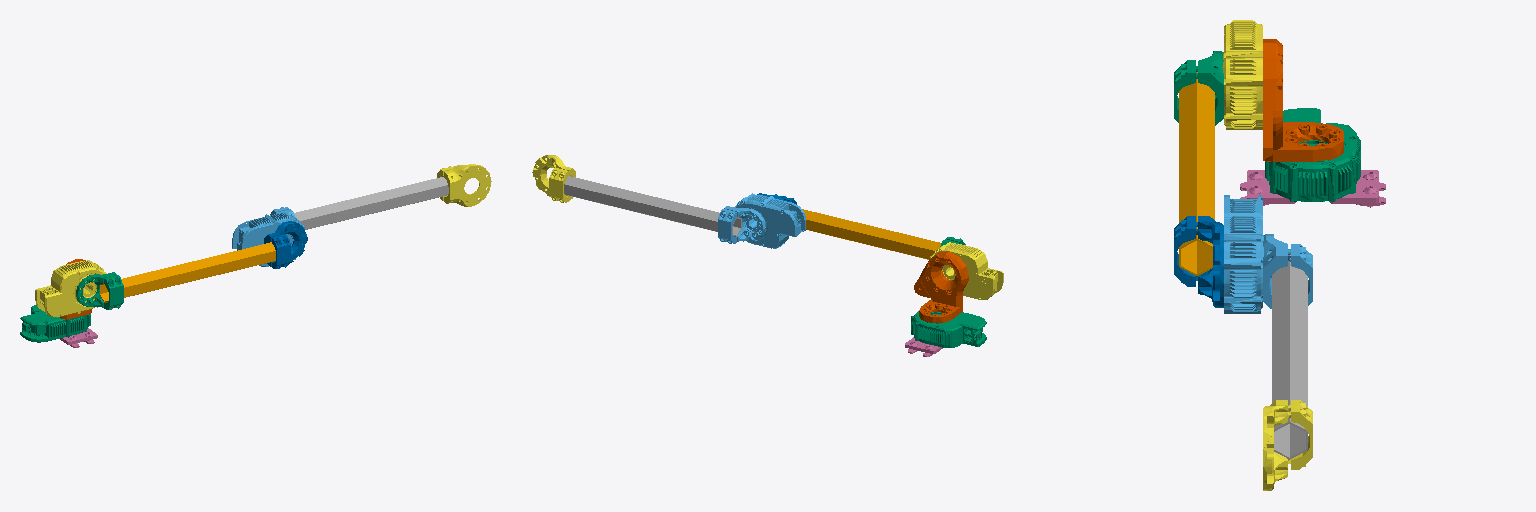
URDF robot description (3_DOF_Arm_1):
<?xml version="1.0" ?>
<robot name="3_DOF_Arm_1">
  <joint name="world_to_a_2043_01_9Z" type="fixed">
    <parent link="world"/>
    <child link="a_2043_01_9Z"/>
  </joint>
  <joint name="a_2043_01_9Z_to_hebi_x5_6Z" type="fixed">
    <parent link="a_2043_01_9Z"/>
    <child link="hebi_x5_6Z"/>
    <origin rpy="0.0 -5.08239990574e-17 -1.73333696049e-33" xyz="8.71763536758e-24 1.61232339957e-23 1e-23"/>
  </joint>
  <joint name="hebi_x5_6Z_to_a_2040_01r_11Z" type="continuous">
    <parent link="hebi_x5_6Z"/>
    <child link="a_2040_01r_11Z"/>
    <axis xyz="-2.77554010017e-17 -1.73472348e-16 1.0"/>
    <origin rpy="0.0 3.34767643574e-17 7.733222874e-33" xyz="-5.55318730444e-17 -2.96636102637e-18 0.03"/>
  </joint>
  <joint name="a_2040_01r_11Z_to_hebi_x5_2Z" type="fixed">
    <parent link="a_2040_01r_11Z"/>
    <child link="hebi_x5_2Z"/>
    <origin rpy="1.57079632679 3.08148791102e-33 -5.08239990574e-17" xyz="4.80186749853e-17 -0.0375 0.055"/>
  </joint>
  <transmission name="tran_a_2040_01r_11Z_to_hebi_x5_2Z">
    <type>transmission_interface/SimpleTransmission</type>
    <joint name="a_2040_01r_11Z_to_hebi_x5_2Z">
      <hardwareInterface>EffortJointInterface</hardwareInterface>
    </joint>
    <actuator name="motor_a_2040_01r_11Z_to_hebi_x5_2Z">
      <hardwareInterface>EffortJointInterface</hardwareInterface>
      <mechanicalReduction>1</mechanicalReduction>
    </actuator>
  </transmission>
  <joint name="hebi_x5_2Z_to_a_2038_02_4Z" type="continuous">
    <parent link="hebi_x5_2Z"/>
    <child link="a_2038_02_4Z"/>
    <axis xyz="-2.77554010017e-17 -1.66533454e-16 1.0"/>
    <origin rpy="0.0 -2.77555756e-17 0.0" xyz="-5.35847694878e-17 2.34257058104e-17 0.03"/>
  </joint>
  <joint name="a_2038_02_4Z_to_tubepar_3Z" type="fixed">
    <parent link="a_2038_02_4Z"/>
    <child link="tubepar_3Z"/>
    <origin rpy="1.57079632679 -1.57079632679 0.0" xyz="0.0135 -9.540978845e-20 0.02"/>
  </joint>
  <joint name="tubepar_3Z_to_a_2039_02_10Z" type="fixed">
    <parent link="tubepar_3Z"/>
    <child link="a_2039_02_10Z"/>
    <origin rpy="1.57079632679 2.50240867501e-14 -1.57079632679" xyz="4.84783703319e-18 -0.3 5.20417041e-18"/>
  </joint>
  <joint name="a_2039_02_10Z_to_hebi_x5_5Z" type="fixed">-->
    <parent link="a_2039_02_10Z"/>
    <child link="hebi_x5_5Z"/>
    <origin rpy="1.22464679915e-16 1.04083409e-17 2.50240867501e-14" xyz="0.014 3.34058705353e-16 0.02"/>
  </joint>
  <joint name="hebi_x5_5Z_to_a_2038_02_1Z" type="continuous">
    <parent link="hebi_x5_5Z"/>
    <child link="a_2038_02_1Z"/>
    <axis xyz="-8.89879155574e-17 -1.5959456e-16 1.0"/>
    <origin rpy="0.0 -2.77555756e-17 -3.08148791102e-33" xyz="-5.95130563275e-17 -4.7878368e-18 0.03"/>
  </joint>
  <transmission name="tran_hebi_x5_5Z_to_a_2038_02_1Z">
    <type>transmission_interface/SimpleTransmission</type>
    <joint name="hebi_x5_5Z_to_a_2038_02_1Z">
      <hardwareInterface>EffortJointInterface</hardwareInterface>
    </joint>
    <actuator name="motor_hebi_x5_5Z_to_a_2038_02_1Z">
      <hardwareInterface>EffortJointInterface</hardwareInterface>
      <mechanicalReduction>1</mechanicalReduction>
    </actuator>
  </transmission>
  <joint name="a_2038_02_1Z_to_tubepar_8Z" type="fixed">
    <parent link="a_2038_02_1Z"/>
    <child link="tubepar_8Z"/>
    <origin rpy="1.57079632679 -1.57079632679 0.0" xyz="0.0135 5.1174342845e-19 0.02"/>
  </joint>
  <joint name="tubepar_8Z_to_a_2039_02_7Z" type="fixed">
    <parent link="tubepar_8Z"/>-->
    <child link="a_2039_02_7Z"/>
    <origin rpy="1.57079632679 2.50240867501e-14 -1.57079632679" xyz="-2.94658008559e-18 -0.3 9.0066843052e-18"/>
  </joint>

  <link name="world"/>
  <link name="a_2038_02_1Z">
    <visual>
      <origin rpy="0 0 0" xyz="5.68434188608e-17 9.86076128129e-34 3.48065554802e-33"/>
      <geometry>
        <mesh filename="package://hebi_3dof_arm_description/meshes/a_2038_02_1z_prt.stl" scale="0.001 0.001 0.001"/>
      </geometry>
    </visual>
    <collision>
      <origin rpy="0 0 0" xyz="5.68434188608e-17 9.86076128129e-34 3.48065554802e-33"/>
      <geometry>-->
        <mesh filename="package://hebi_3dof_arm_description/meshes/a_2038_02_1z_prt.stl" scale="0.001 0.001 0.001"/>
      </geometry>
    </collision>
    <inertial>
      <origin rpy="0 0 0" xyz="0.0176052907699 9.86076128129e-34 0.0142788404199"/>
      <mass value="0.059108249978877175"/>
      <inertia ixx="2.3632587043e-05" ixy="0.0" ixz="-3.93131579939e-06" iyy="2.03298829586e-05" iyz="0.0" izz="2.72912531732e-05"/>
    </inertial>
  </link>
  <gazebo reference="a_2038_02_1Z">
    <selfCollide>true</selfCollide>
    <material>Gazebo/Blue</material>
  </gazebo>
  <link name="a_2038_02_4Z">
    <visual>
      <origin rpy="0 0 0" xyz="5.68994337913e-17 -9.87047832275e-34 -4.47113330557e-33"/>
      <geometry>
        <mesh filename="package://hebi_3dof_arm_description/meshes/a_2038_02_4z_prt.stl" scale="0.001 0.001 0.001"/>
      </geometry>
    </visual>
    <collision>
      <origin rpy="0 0 0" xyz="5.68994337913e-17 -9.87047832275e-34 -4.47113330557e-33"/>
      <geometry>
        <mesh filename="package://hebi_3dof_arm_description/meshes/a_2038_02_4z_prt.stl" scale="0.001 0.001 0.001"/>
      </geometry>
    </collision>
    <inertial>
      <origin rpy="0 0 0" xyz="0.0176052907699 -9.87047832275e-34 0.0142788404199"/>
      <mass value="0.059108249978877175"/>
      <inertia ixx="2.3632587043e-05" ixy="0.0" ixz="-3.93131579939e-06" iyy="2.03298829586e-05" iyz="0.0" izz="2.72912531732e-05"/>
    </inertial>
  </link>
  <gazebo reference="a_2038_02_4Z">
    <selfCollide>true</selfCollide>
    <material>Gazebo/Blue</material>
  </gazebo>
  <link name="a_2039_02_7Z">
    <visual>
      <origin rpy="0 0 0" xyz="0.014 3.47783837497e-16 0.02"/>
      <geometry>
        <mesh filename="package://hebi_3dof_arm_description/meshes/a_2039_02_7z_prt.stl" scale="0.001 0.001 0.001"/>
      </geometry>
    </visual>
    <collision>
      <origin rpy="0 0 0" xyz="0.014 3.47783837497e-16 0.02"/>
      <geometry>
        <mesh filename="package://hebi_3dof_arm_description/meshes/a_2039_02_7z_prt.stl" scale="0.001 0.001 0.001"/>
      </geometry>
    </collision>
    <inertial>
      <origin rpy="0 0 0" xyz="0.00256411047128 3.47783837497e-16 0.00833404763152"/>
      <mass value="0.08075605008850124"/>
      <inertia ixx="3.54766366127e-05" ixy="0.0" ixz="-8.29679742245e-06" iyy="3.7139980371e-05" iyz="0.0" izz="5.23238184568e-05"/>
    </inertial>
  </link>
  <gazebo reference="a_2039_02_7Z">
    <selfCollide>true</selfCollide>
    <material>Gazebo/Blue</material>
  </gazebo>
  <link name="a_2039_02_10Z">
    <visual>
      <origin rpy="0 0 0" xyz="0.014 3.48269560069e-16 0.02"/>
      <geometry>
        <mesh filename="package://hebi_3dof_arm_description/meshes/a_2039_02_10z_prt.stl" scale="0.001 0.001 0.001"/>
      </geometry>
    </visual>
    <collision>
      <origin rpy="0 0 0" xyz="0.014 3.48269560069e-16 0.02"/>
      <geometry>
        <mesh filename="package://hebi_3dof_arm_description/meshes/a_2039_02_10z_prt.stl" scale="0.001 0.001 0.001"/>
      </geometry>
    </collision>
    <inertial>
      <origin rpy="0 0 0" xyz="0.00256411047128 3.48269560069e-16 0.00833404763152"/>
      <mass value="0.08075605008850124"/>
      <inertia ixx="3.54766366127e-05" ixy="0.0" ixz="-8.29679742245e-06" iyy="3.7139980371e-05" iyz="0.0" izz="5.23238184568e-05"/>
    </inertial>
  </link>
  <gazebo reference="a_2039_02_10Z">
    <selfCollide>true</selfCollide>
    <material>Gazebo/Blue</material>
  </gazebo>
  <link name="a_2040_01r_11Z">
    <visual>
      <origin rpy="0 0 0" xyz="-0.00144337567 -0.0366111248 -0.0110127649"/>
      <geometry>
        <mesh filename="package://hebi_3dof_arm_description/meshes/a_2040_01r_11z_prt.stl" scale="0.001 0.001 0.001"/>
      </geometry>
    </visual>
    <collision>
      <origin rpy="0 0 0" xyz="-0.00144337567 -0.0366111248 -0.0110127649"/>
      <geometry>
        <mesh filename="package://hebi_3dof_arm_description/meshes/a_2040_01r_11z_prt.stl" scale="0.001 0.001 0.001"/>
      </geometry>
    </collision>
    <inertial>
      <origin rpy="0 0 0" xyz="0.00491688893766 -0.0251584176519 0.0321388430548"/>
      <mass value="0.20914931631287276"/>
      <inertia ixx="0.000172164331359" ixy="6.97960030475e-06" ixz="1.86510590224e-06" iyy="0.000214507296155" iyz="3.45432088412e-05" izz="0.00012102414398"/>
    </inertial>
  </link>
  <gazebo reference="a_2040_01r_11Z">
    <selfCollide>true</selfCollide>
    <material>Gazebo/Blue</material>
  </gazebo>
  <link name="a_2043_01_9Z">
    <visual>
      <origin rpy="0 0 0" xyz="1e-23 1e-23 1e-23"/>
      <geometry>
        <mesh filename="package://hebi_3dof_arm_description/meshes/a_2043_01_9z_prt.stl" scale="0.001 0.001 0.001"/>
      </geometry>
    </visual>
    <collision>
      <origin rpy="0 0 0" xyz="1e-23 1e-23 1e-23"/>
      <geometry>
        <mesh filename="package://hebi_3dof_arm_description/meshes/a_2043_01_9z_prt.stl" scale="0.001 0.001 0.001"/>
      </geometry>
    </collision>
    <inertial>
      <origin rpy="0 0 0" xyz="-0.00139419949295 1e-23 -0.00293190489101"/>
      <mass value="0.06272938391183215"/>
      <inertia ixx="7.22571415296e-05" ixy="2.96268938113e-10" ixz="5.68510520871e-08" iyy="1.34631068457e-05" iyz="0.0" izz="8.48613385518e-05"/>
    </inertial>
  </link>
  <gazebo reference="a_2043_01_9Z">
    <selfCollide>true</selfCollide>
    <material>Gazebo/Blue</material>
  </gazebo>
  <link name="tubepar_8Z">
    <visual>
      <origin rpy="0 0 0" xyz="-2.94658008559e-18 -0.3 9.0066843052e-18"/>
      <geometry>
        <mesh filename="package://hebi_3dof_arm_description/meshes/tubepar_8z_prt.stl" scale="0.001 0.001 0.001"/>
      </geometry>
    </visual>
    <collision>
      <origin rpy="0 0 0" xyz="-2.94658008559e-18 -0.3 9.0066843052e-18"/>
      <geometry>
        <mesh filename="package://hebi_3dof_arm_description/meshes/tubepar_8z_prt.stl" scale="0.001 0.001 0.001"/>
      </geometry>
    </collision>
    <inertial>
      <origin rpy="0 0 0" xyz="-2.94658008559e-18 -0.15 9.0066843052e-18"/>
      <mass value="0.12133427279164029"/>
      <inertia ixx="0.000923727684155" ixy="0.0" ixz="0.0" iyy="2.74413054377e-05" iyz="0.0" izz="0.000923727713157"/>
    </inertial>
  </link>
  <gazebo reference="tubepar_8Z">
    <selfCollide>true</selfCollide>
    <material>Gazebo/Blue</material>
  </gazebo>
  <link name="tubepar_3Z">
    <visual>
      <origin rpy="0 0 0" xyz="4.84783703319e-18 -0.3 5.20417041e-18"/>
      <geometry>
        <mesh filename="package://hebi_3dof_arm_description/meshes/tubepar_3z_prt.stl" scale="0.001 0.001 0.001"/>
      </geometry>
    </visual>
    <collision>
      <origin rpy="0 0 0" xyz="4.84783703319e-18 -0.3 5.20417041e-18"/>
      <geometry>
        <mesh filename="package://hebi_3dof_arm_description/meshes/tubepar_3z_prt.stl" scale="0.001 0.001 0.001"/>
      </geometry>
    </collision>
    <inertial>
      <origin rpy="0 0 0" xyz="4.84783703319e-18 -0.15 5.20417041e-18"/>
      <mass value="0.12133427279164029"/>
      <inertia ixx="0.000923727684155" ixy="0.0" ixz="0.0" iyy="2.74413054377e-05" iyz="0.0" izz="0.000923727713157"/>
    </inertial>
  </link>
  <gazebo reference="tubepar_3Z">
    <selfCollide>true</selfCollide>
    <material>Gazebo/Blue</material>
  </gazebo>
  <link name="hebi_x5_5Z">
    <visual>
      <origin rpy="0 0 0" xyz="-5.81782375942e-17 -2.3939184e-18 0.015"/>
      <geometry>
        <mesh filename="package://hebi_3dof_arm_description/meshes/hebi_x5_5z_prt.stl" scale="0.001 0.001 0.001"/>
      </geometry>
    </visual>
    <collision>
      <origin rpy="0 0 0" xyz="-5.81782375942e-17 -2.3939184e-18 0.015"/>
      <geometry>
        <mesh filename="package://hebi_3dof_arm_description/meshes/hebi_x5_5z_prt.stl" scale="0.001 0.001 0.001"/>
      </geometry>
    </collision>
    <inertial>
      <origin rpy="0 0 0" xyz="-0.0142019322139 -0.00151173442654 0.0150064707722"/>
      <mass value="0.31314990731599424"/>
      <inertia ixx="0.000130134484577" ixy="-1.76457619391e-05" ixz="1.18542673976e-08" iyy="0.00022573878578" iyz="1.19840924602e-07" izz="0.000308861203858"/>
    </inertial>
  </link>
  <gazebo reference="hebi_x5_5Z">
    <selfCollide>true</selfCollide>
    <material>Gazebo/Blue</material>
  </gazebo>
  <link name="hebi_x5_6Z">
    <visual>
      <origin rpy="0 0 0" xyz="-5.55318730444e-17 -2.49799181e-18 0.015"/>
      <geometry>
        <mesh filename="package://hebi_3dof_arm_description/meshes/hebi_x5_6z_prt.stl" scale="0.001 0.001 0.001"/>
      </geometry>
    </visual>
    <collision>
      <origin rpy="0 0 0" xyz="-5.55318730444e-17 -2.49799181e-18 0.015"/>
      <geometry>
        <mesh filename="package://hebi_3dof_arm_description/meshes/hebi_x5_6z_prt.stl" scale="0.001 0.001 0.001"/>
      </geometry>
    </collision>
    <inertial>
      <origin rpy="0 0 0" xyz="-0.0142019322139 -0.00151173442654 0.0150064707722"/>
      <mass value="0.31314990731599424"/>
      <inertia ixx="0.000130134484577" ixy="-1.76457619391e-05" ixz="1.18542673976e-08" iyy="0.00022573878578" iyz="1.19840924602e-07" izz="0.000308861203858"/>
    </inertial>
  </link>
  <gazebo reference="hebi_x5_6Z">
    <selfCollide>true</selfCollide>
    <material>Gazebo/Blue</material>
  </gazebo>
  <link name="hebi_x5_2Z">
    <visual>
      <origin rpy="0 0 0" xyz="-5.35847694878e-17 2.59237076204e-17 0.015"/>
      <geometry>
        <mesh filename="package://hebi_3dof_arm_description/meshes/hebi_x5_2z_prt.stl" scale="0.001 0.001 0.001"/>
      </geometry>
    </visual>
    <collision>
      <origin rpy="0 0 0" xyz="-5.35847694878e-17 2.59237076204e-17 0.015"/>
      <geometry>
        <mesh filename="package://hebi_3dof_arm_description/meshes/hebi_x5_2z_prt.stl" scale="0.001 0.001 0.001"/>
      </geometry>
    </collision>
    <inertial>
      <origin rpy="0 0 0" xyz="-0.0142019322139 -0.00151173442654 0.0150064707722"/>
      <mass value="0.31314990731599424"/>
      <inertia ixx="0.000130134484577" ixy="-1.76457619391e-05" ixz="1.18542673976e-08" iyy="0.00022573878578" iyz="1.19840924602e-07" izz="0.000308861203858"/>
    </inertial>
  </link>
  <gazebo reference="hebi_x5_2Z">
    <selfCollide>true</selfCollide>
    <material>Gazebo/Blue</material>
  </gazebo>
</robot>

--- Render facts (derived) ---
Views: 3 orthographic renders of the robot side by side, from view 1: azimuth 30°, elevation 25°; view 2: azimuth 150°, elevation 25°; view 3: azimuth 270°, elevation 25°.
Model 3_DOF_Arm_1 with 12 links and 11 joints (3 continuous, 8 fixed), rooted at world, posed every joint at zero.
Visible links, largest first — view 1: tubepar_3Z, tubepar_8Z, hebi_x5_2Z, hebi_x5_6Z, a_2039_02_7Z, hebi_x5_5Z, a_2039_02_10Z, a_2038_02_4Z; view 2: tubepar_8Z, a_2040_01r_11Z, tubepar_3Z, hebi_x5_5Z, hebi_x5_6Z, hebi_x5_2Z, a_2039_02_7Z, a_2038_02_1Z; view 3: tubepar_8Z, tubepar_3Z, hebi_x5_6Z, a_2040_01r_11Z, hebi_x5_5Z, hebi_x5_2Z, a_2039_02_10Z, a_2039_02_7Z, a_2043_01_9Z, a_2038_02_4Z, a_2038_02_1Z.
Link boxes in pixels (<box>): tubepar_3Z: <box>100,242,275,302</box>; tubepar_8Z: <box>294,177,448,229</box>; hebi_x5_2Z: <box>35,260,106,317</box>; hebi_x5_6Z: <box>20,305,90,342</box>; a_2039_02_7Z: <box>437,164,491,206</box>; hebi_x5_5Z: <box>232,212,304,266</box>; a_2039_02_10Z: <box>264,221,307,268</box>; a_2038_02_4Z: <box>76,272,123,309</box>; tubepar_8Z: <box>564,176,741,236</box>; a_2040_01r_11Z: <box>914,251,968,322</box>; tubepar_3Z: <box>802,209,940,259</box>; hebi_x5_5Z: <box>734,193,805,248</box>; hebi_x5_6Z: <box>911,311,986,347</box>; hebi_x5_2Z: <box>930,242,1003,299</box>; a_2039_02_7Z: <box>532,155,575,202</box>; a_2038_02_1Z: <box>718,206,765,243</box>; tubepar_8Z: <box>1272,255,1307,459</box>; tubepar_3Z: <box>1179,72,1214,275</box>; hebi_x5_6Z: <box>1265,108,1360,201</box>; a_2040_01r_11Z: <box>1263,39,1343,161</box>; hebi_x5_5Z: <box>1224,195,1263,313</box>; hebi_x5_2Z: <box>1222,20,1262,129</box>; a_2039_02_10Z: <box>1174,216,1223,307</box>; a_2039_02_7Z: <box>1263,400,1312,490</box>; a_2043_01_9Z: <box>1240,170,1385,207</box>; a_2038_02_4Z: <box>1174,51,1223,125</box>; a_2038_02_1Z: <box>1263,234,1312,308</box>.
Bounding box of the posed robot: 0.7606 × 0.1603 × 0.1342 m (x, y, z).
11 mesh visuals loaded from 11 distinct referenced files (11 binary STL).